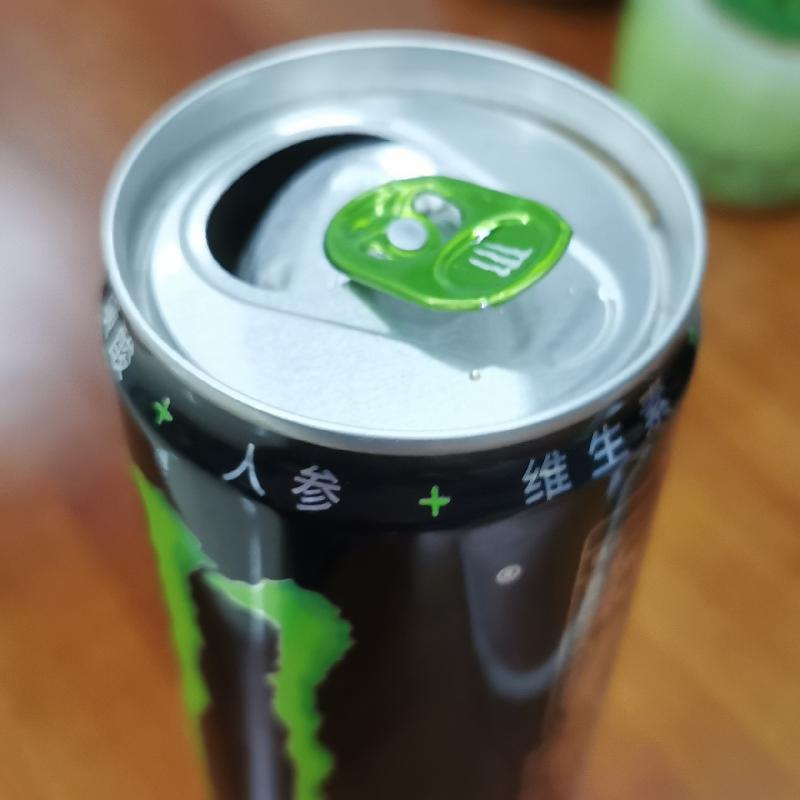cans: (91, 26, 711, 799)
